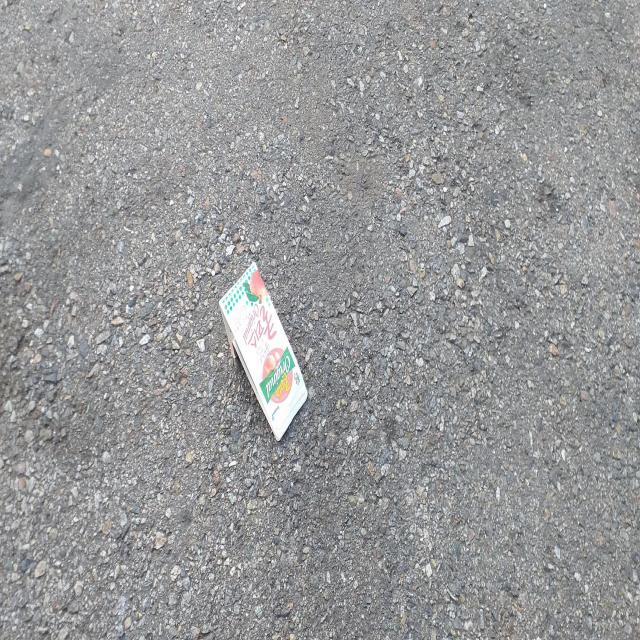paperpack: (219, 261, 308, 440)
